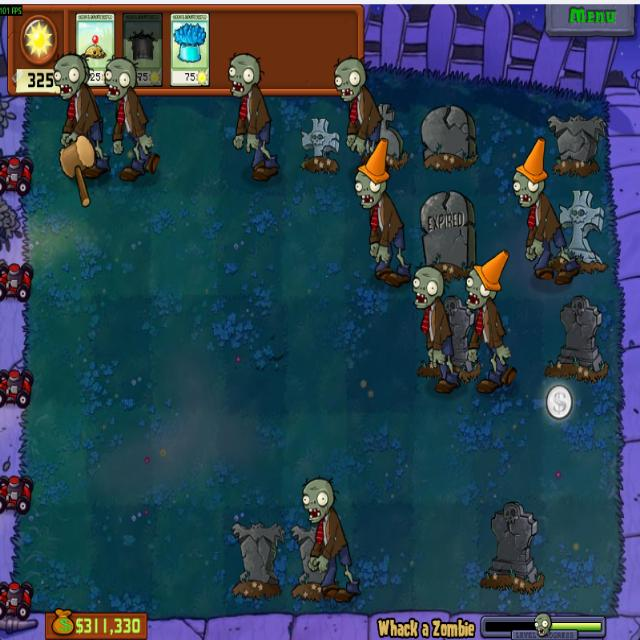conehead: (462, 248, 509, 312), (353, 136, 391, 210), (513, 135, 548, 209)
grave: (476, 499, 546, 592), (543, 294, 606, 382), (418, 188, 476, 280), (423, 294, 480, 386), (552, 188, 606, 276), (227, 517, 284, 599), (545, 108, 606, 178), (418, 104, 479, 170), (289, 522, 336, 598), (295, 113, 341, 174), (367, 98, 406, 166)
zombie: (225, 51, 264, 98), (331, 54, 368, 103), (300, 476, 336, 524), (101, 57, 138, 102), (53, 54, 89, 99), (409, 264, 444, 309)
